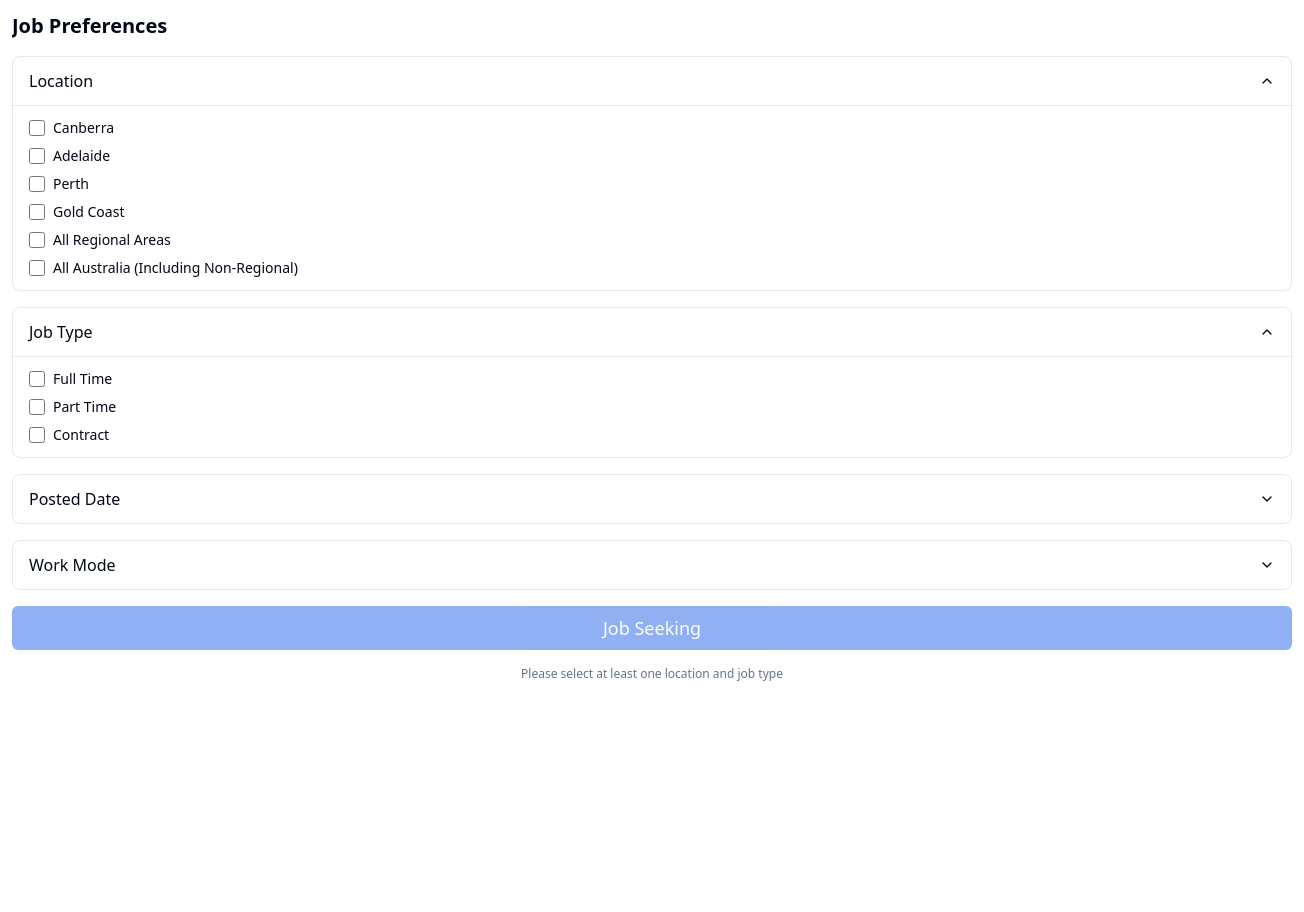
it: JobFilterPanel › 应该在选择地点和工作类型后启用按钮
The width and height of the screenshot is (1304, 912).
Click the checkbox labelled "Canberra" at (37, 128), box [29,120,45,136]
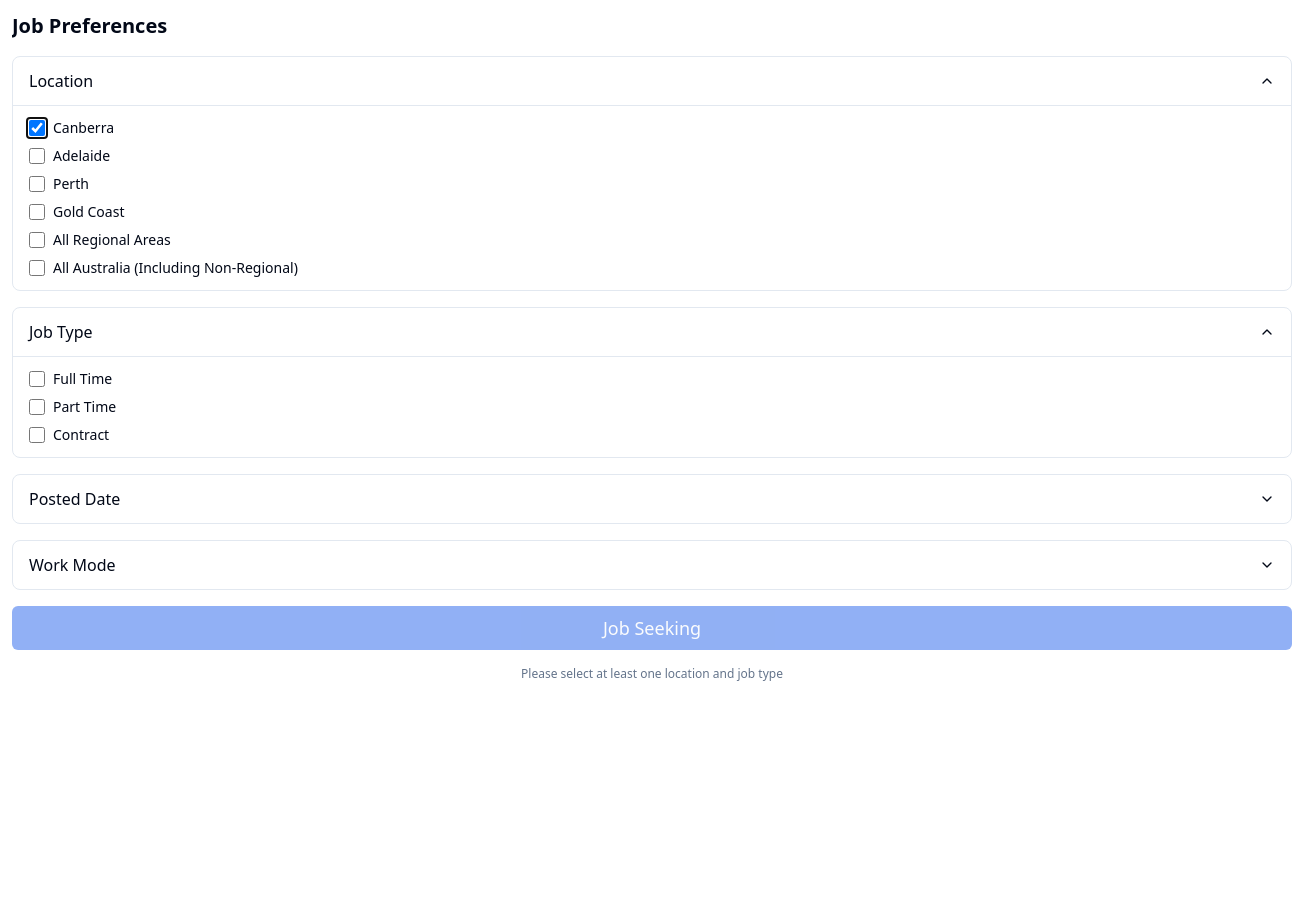
Click the checkbox labelled "Full Time" at (37, 379), box [29,371,45,387]
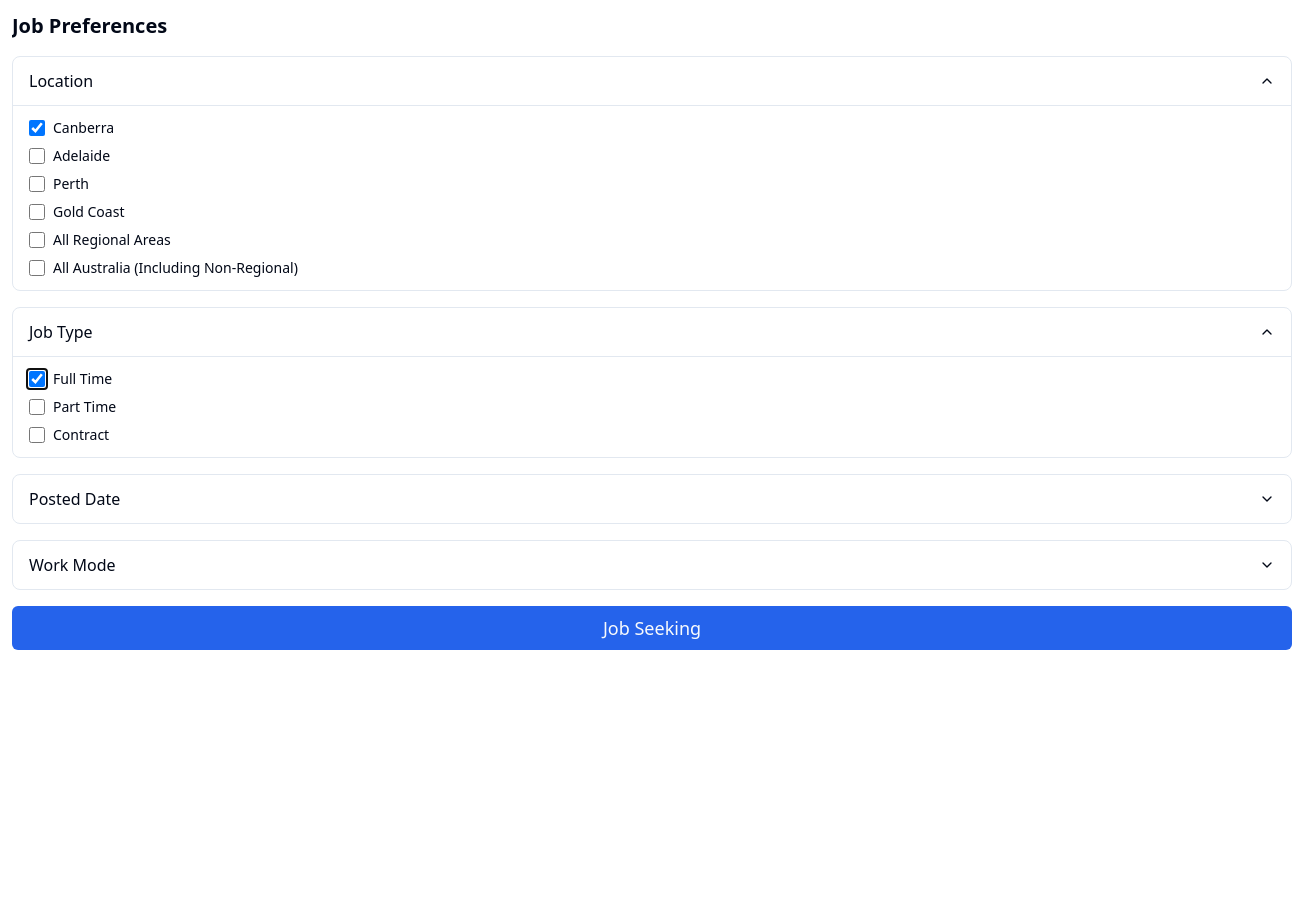
expect the button "Job Seeking" is enabled: met, box [12,606,1292,650]
